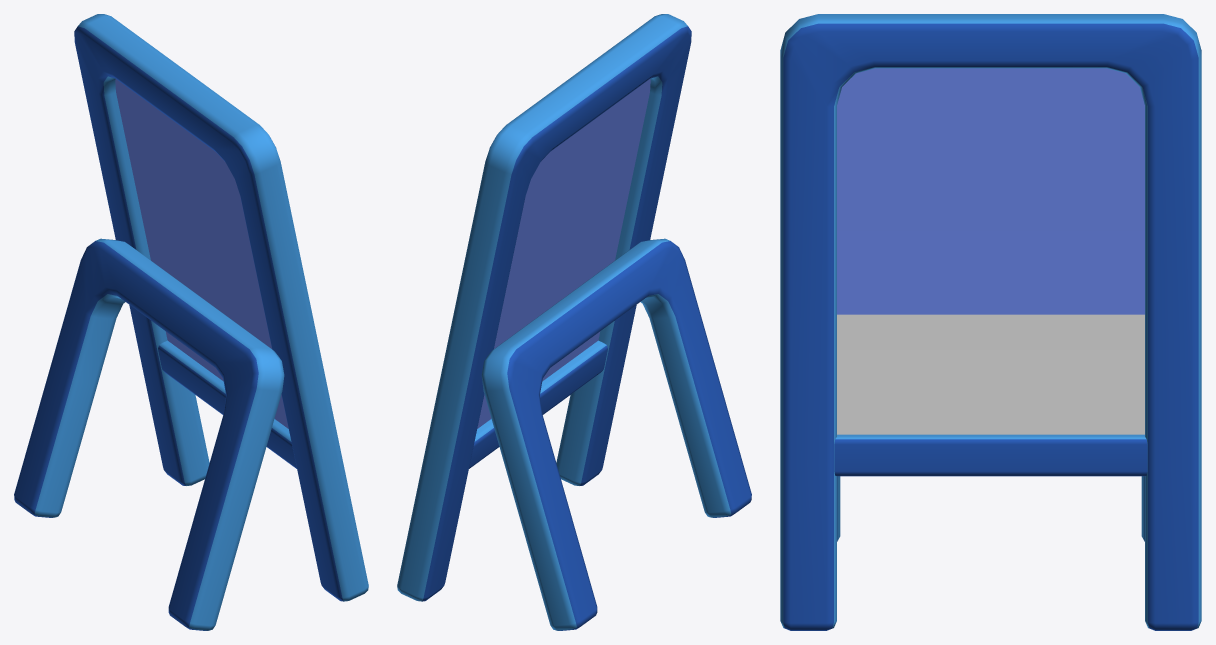
File: cf_board.fbx
The picture shows the model from 3 angles, left to right: view 1: azimuth 30°, elevation 25°; view 2: azimuth 150°, elevation 25°; view 3: azimuth 270°, elevation 25°; orthographic projection. The views are drawn at different scales.
Visible parts, largest first — view 1: cf_board; view 2: cf_board; view 3: cf_board.
Boxes of the visible parts, x1,y1,x2,y2 form: cf_board: (14, 14, 368, 630); cf_board: (397, 14, 751, 630); cf_board: (780, 14, 1201, 630).
Size of the model in its own units: 7.09 by 18.14 by 12.33.
